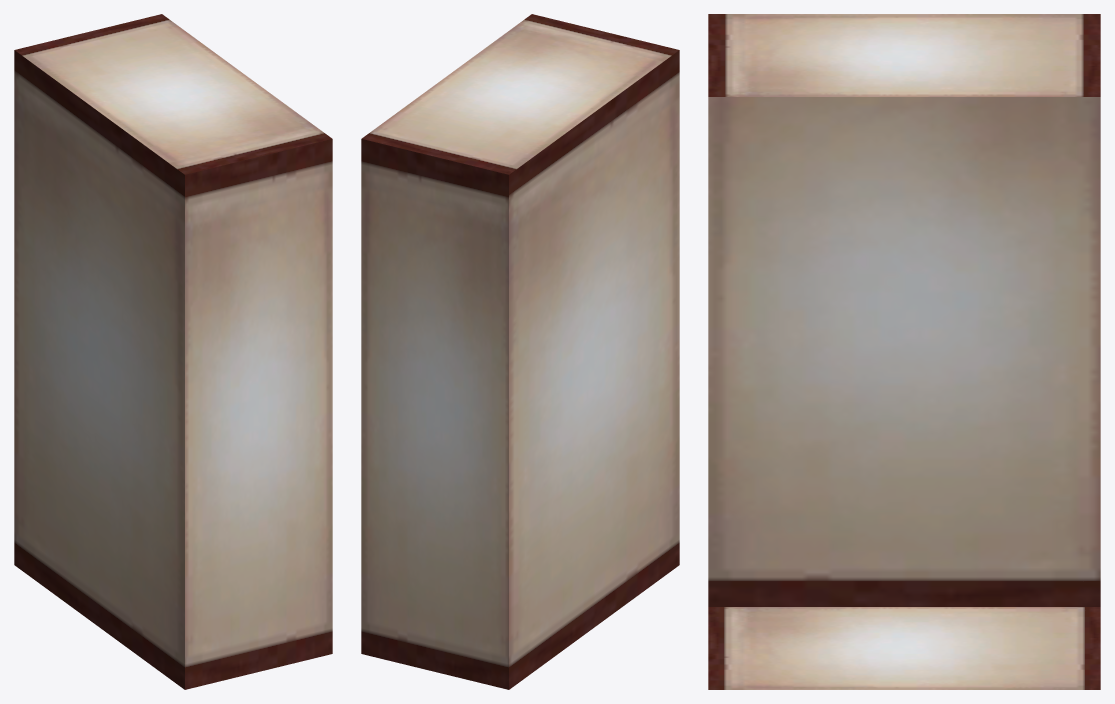
Rendered from it_wall_light.fbx.
3 renders of one model, left to right at view 1: azimuth 30°, elevation 25°; view 2: azimuth 150°, elevation 25°; view 3: azimuth 270°, elevation 25°, orthographic. The views are drawn at different scales.
Visible parts, largest first — view 1: mesh_0; view 2: mesh_0; view 3: mesh_0.
Part boxes in pixels (x1,y1,x2,y2): mesh_0: [14, 14, 332, 689]; mesh_0: [361, 14, 679, 689]; mesh_0: [708, 14, 1100, 689].
Size of the model in its own units: 15 by 50 by 30.
Materials: 1 (1 with a texture image).
